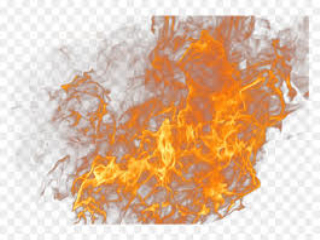fire: (40, 20, 296, 223)
